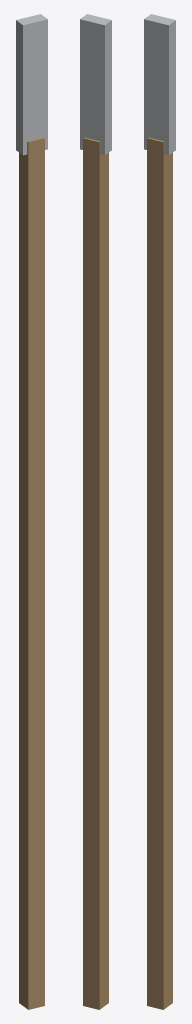
The model's file is spear.glb.
3 renders of one model, left to right at view 1: azimuth 30°, elevation 25°; view 2: azimuth 150°, elevation 25°; view 3: azimuth 330°, elevation 25°, orthographic.
Visible parts, largest first — view 1: Spear; view 2: Spear; view 3: Spear.
Boxes of the visible parts, x1,y1,x2,y2 form: Spear: (16,14,47,1009); Spear: (80,14,111,1009); Spear: (144,14,175,1009).
Bounding box in the file's own units: 0.06 × 2.27 × 0.04.
